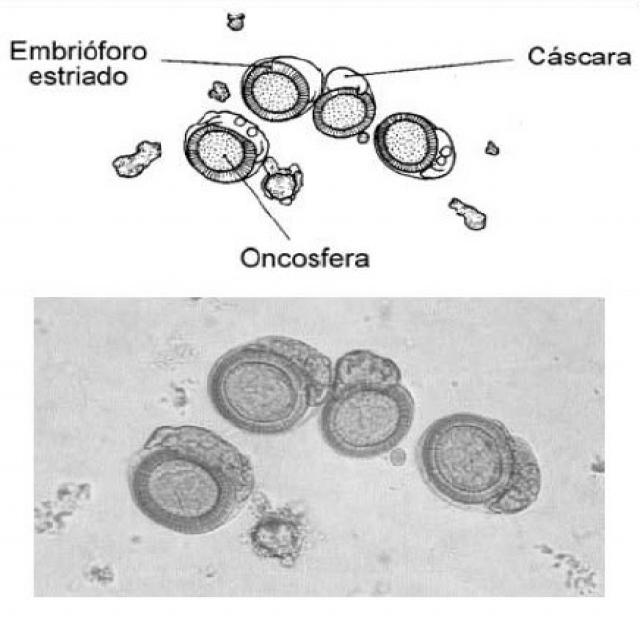Taenia Sp: (117, 428, 244, 536), (413, 408, 531, 514), (202, 338, 312, 437), (311, 371, 421, 464)
